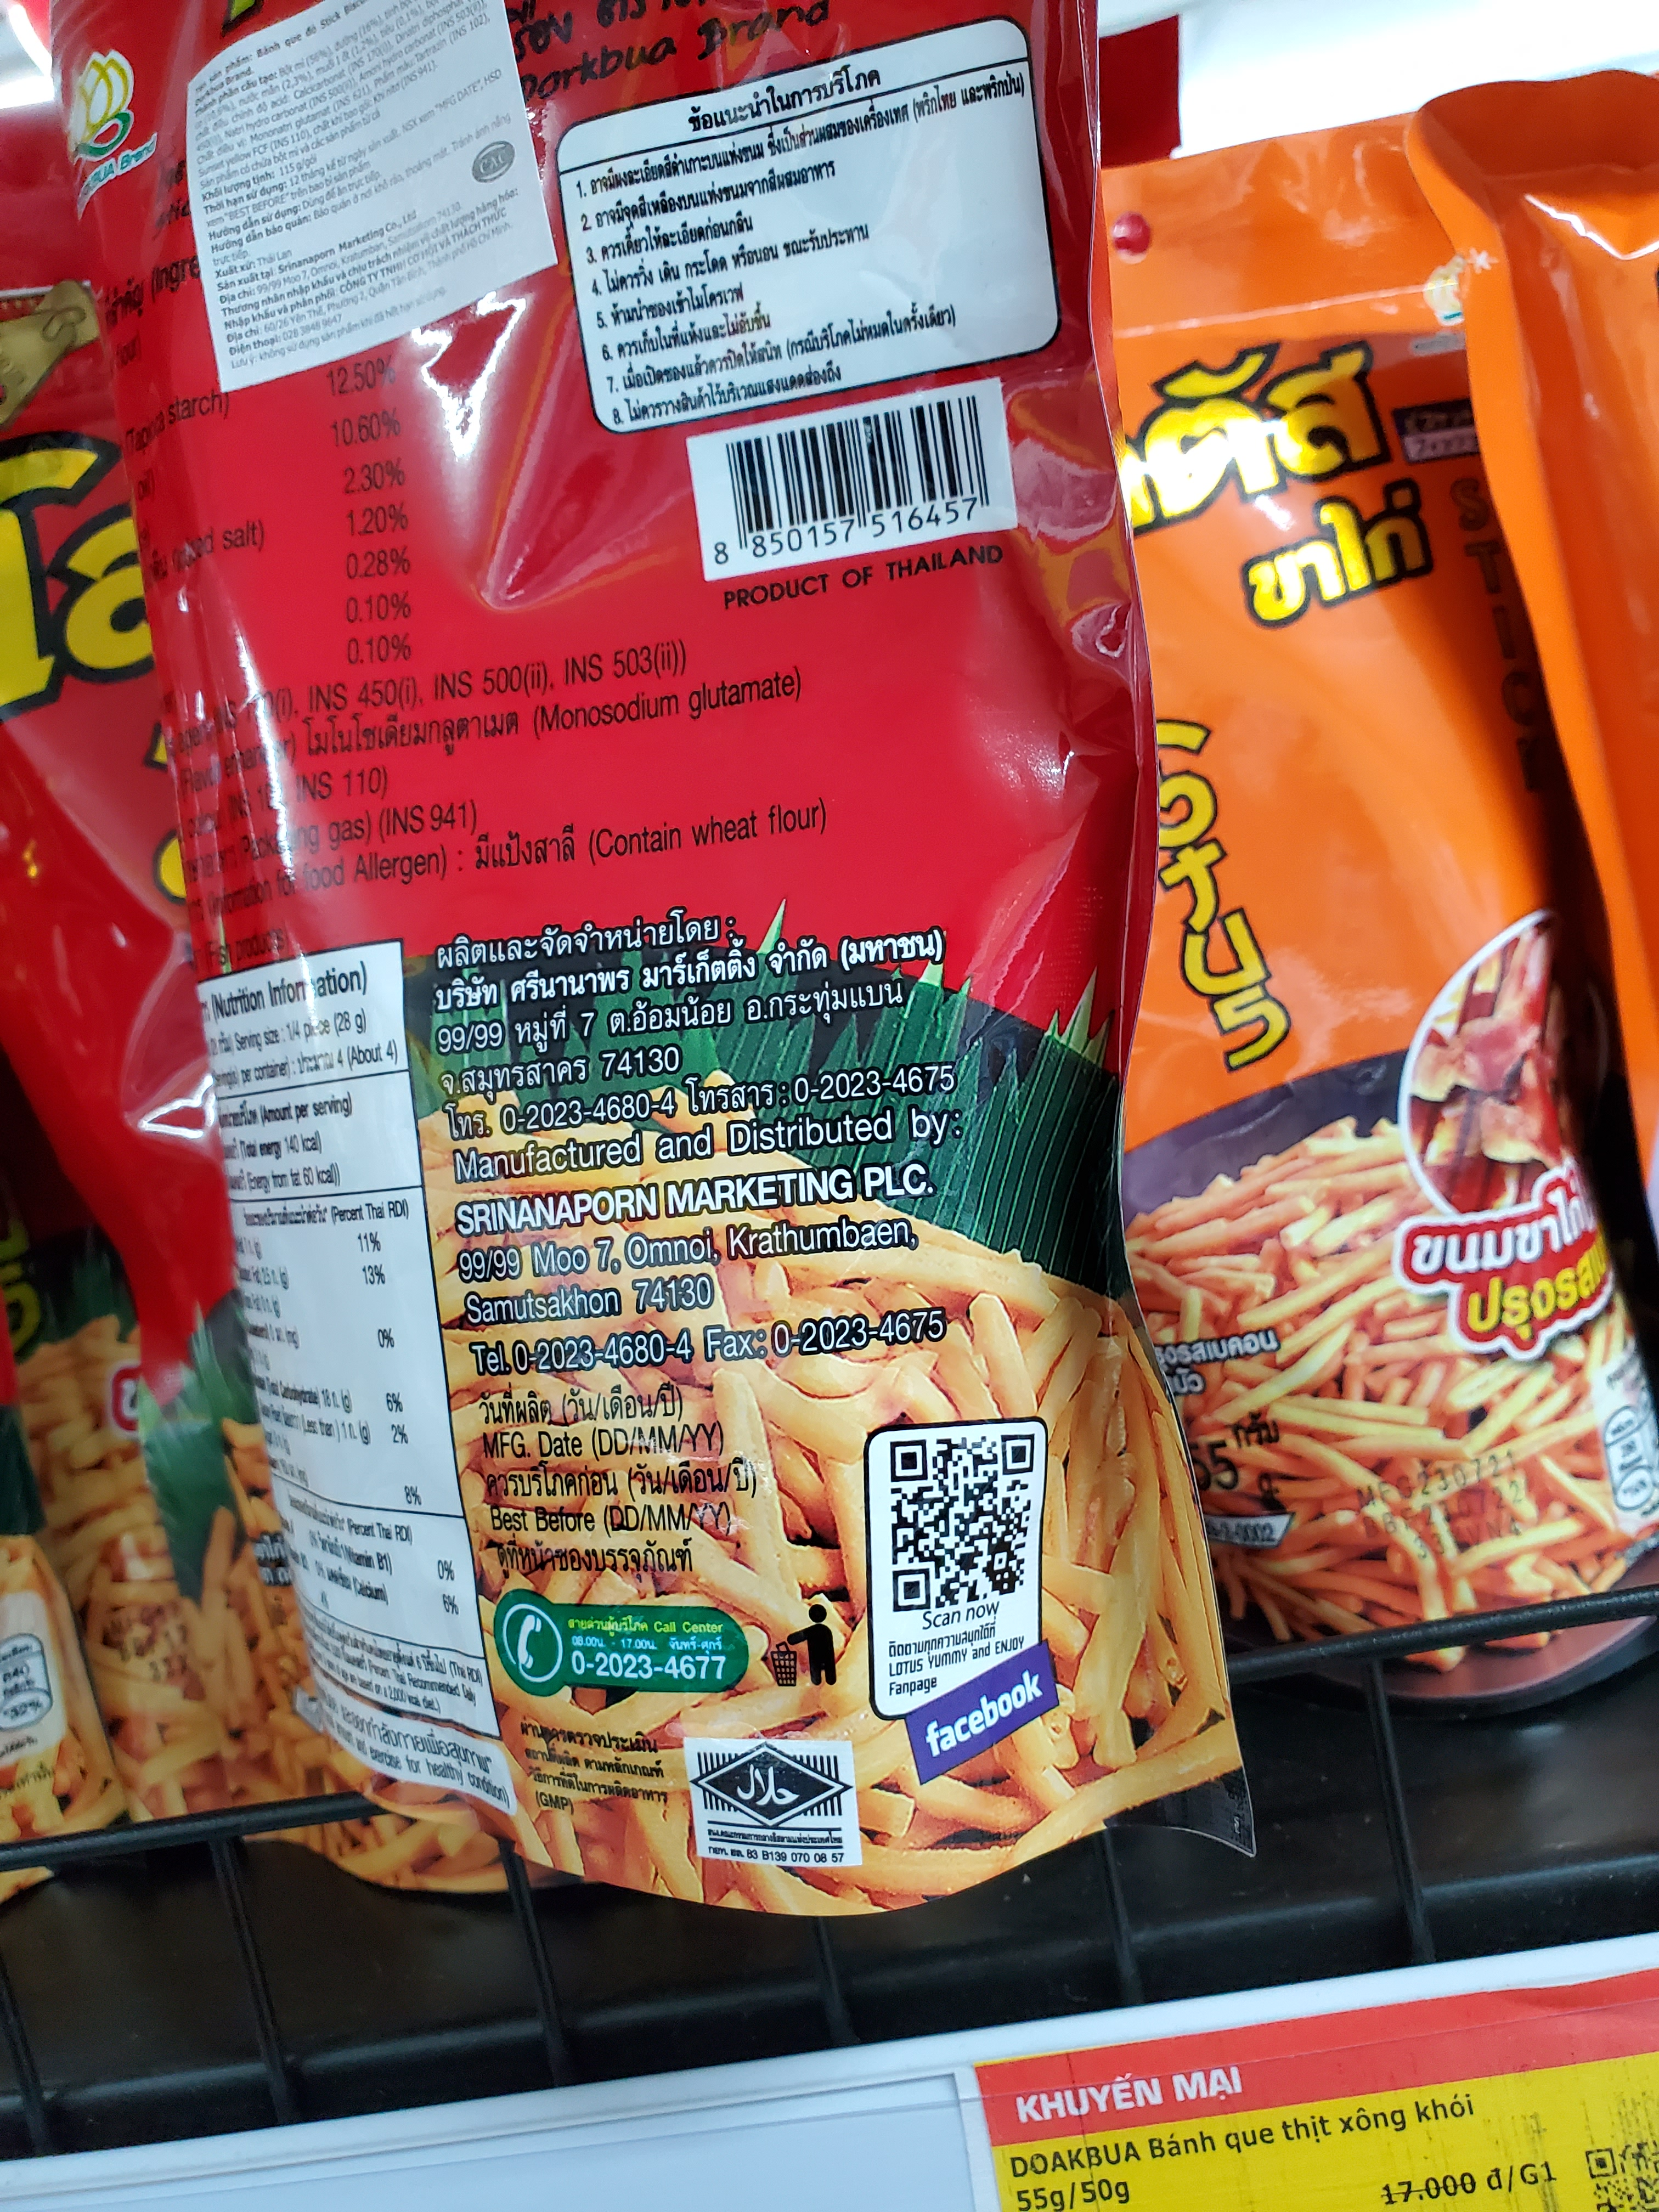barcode: (676, 378, 1012, 573)
qr code: (861, 1416, 1047, 1622)
